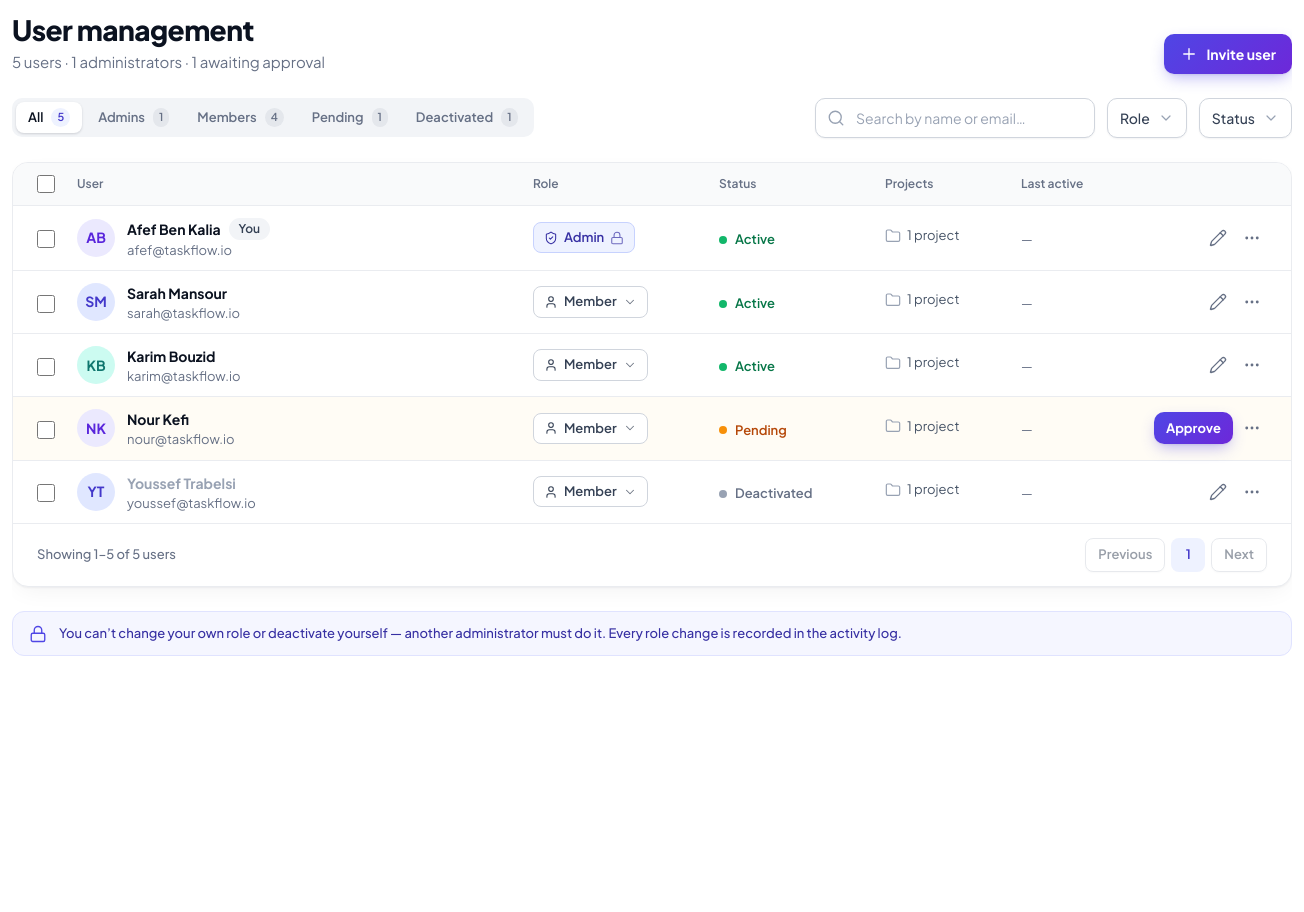
Test: Users › selection › says when nothing applies (only your own account)
The image size is (1304, 912).
Check: the text "Karim Bouzid" is shown, box 127,346 -> 216,366
Click the checkbox named "Select Afef Ben Kalia" at (46, 239), box 37,230 -> 55,248
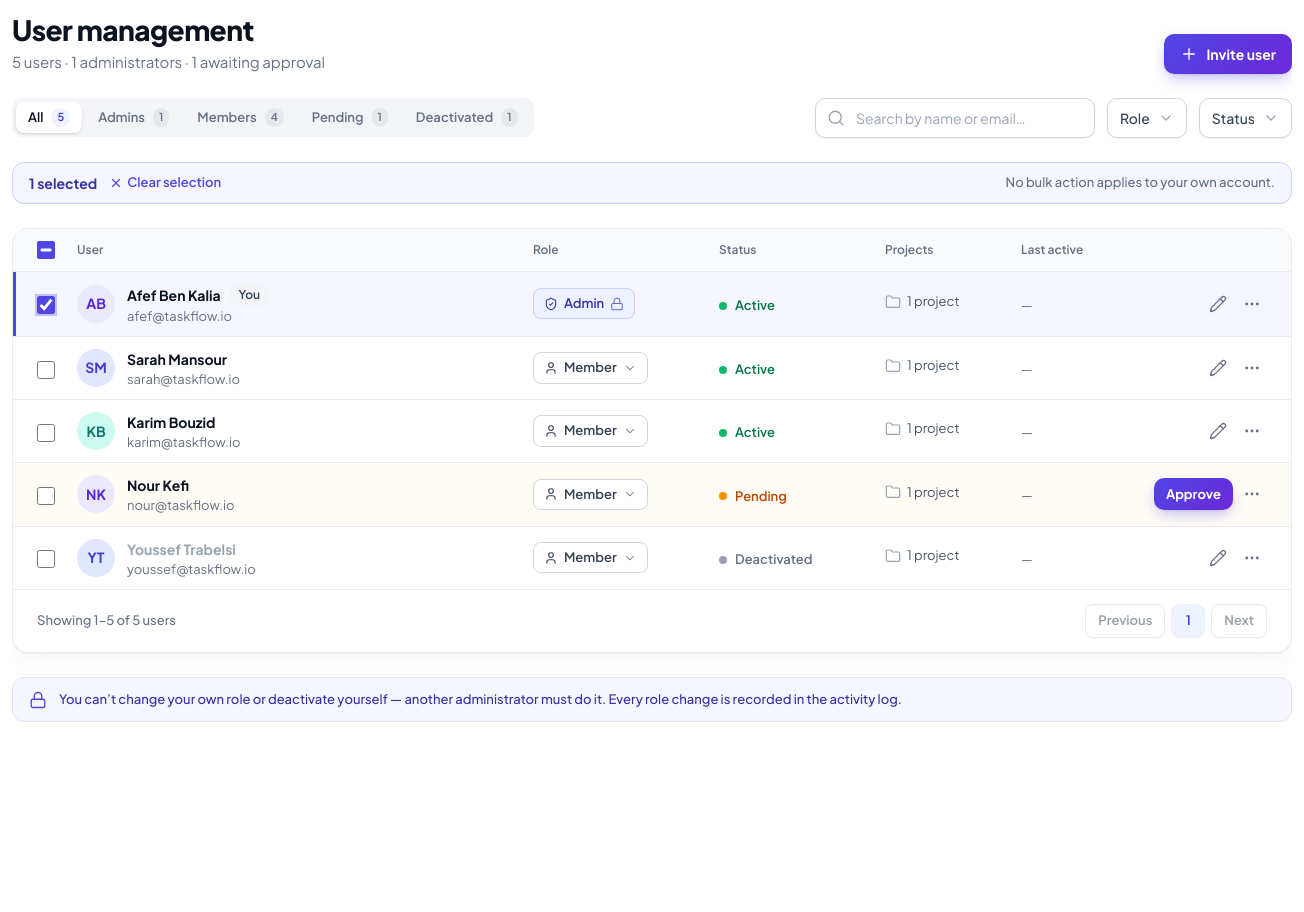
Check: the text "No bulk action applies to your own account." is shown, box 1006,173 -> 1275,192
